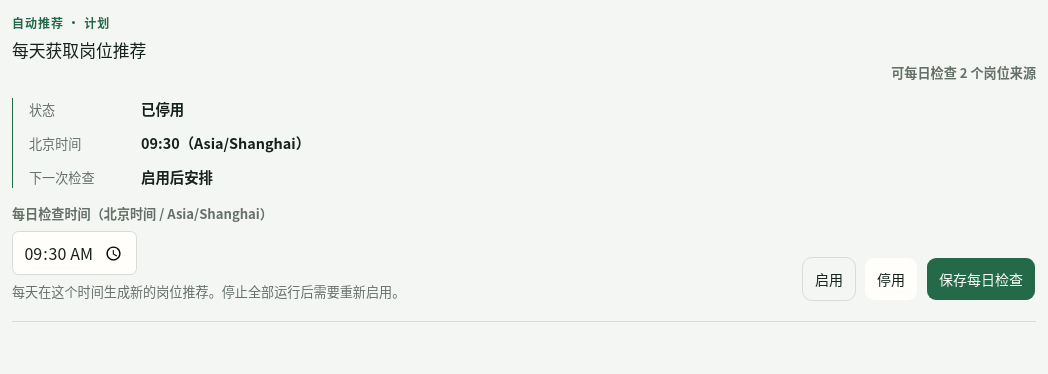
Test case: NO_SUPPORTED_SOURCE 冲突后显示待接入且禁止继续保存
Expected: the text "可每日检查 2 个岗位来源" is shown, 891,63 -> 1036,82
Click the button "保存每日检查" at (981, 279), box 926,257 -> 1036,301
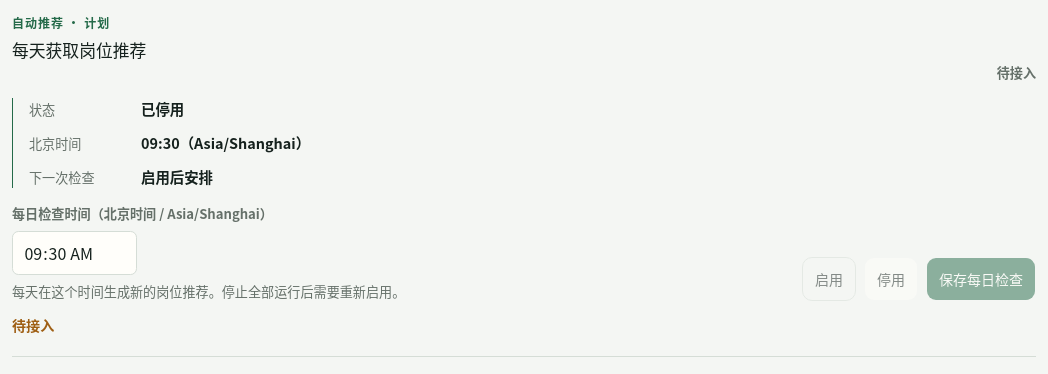
Expected: the text "待接入" is shown, 997,63 -> 1036,82
Expected: the button "启用" is disabled, 802,257 -> 856,301
Expected: the button "保存每日检查" is disabled, 926,257 -> 1036,301
